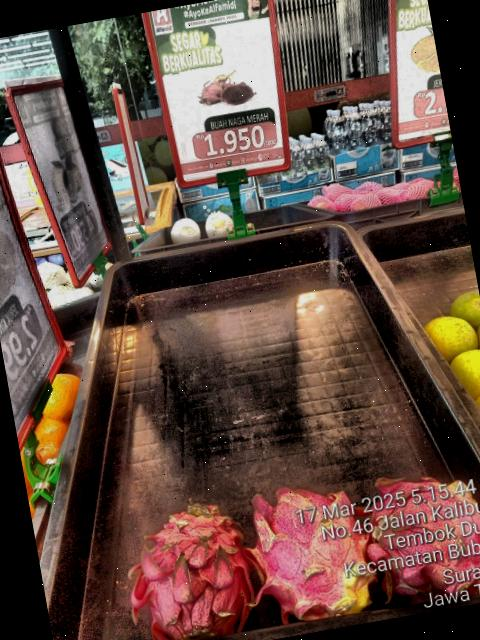buah-naga-belum-matang: (236, 468, 381, 630), (342, 455, 480, 619)
buah-naga-matang: (114, 493, 265, 640)
